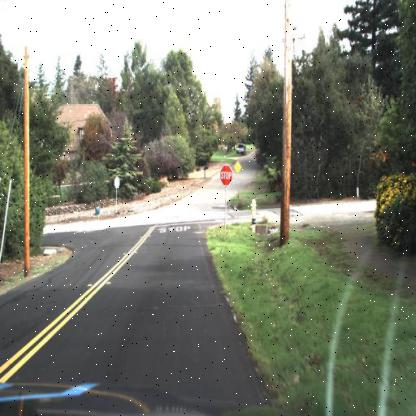car: (235, 140, 247, 158)
